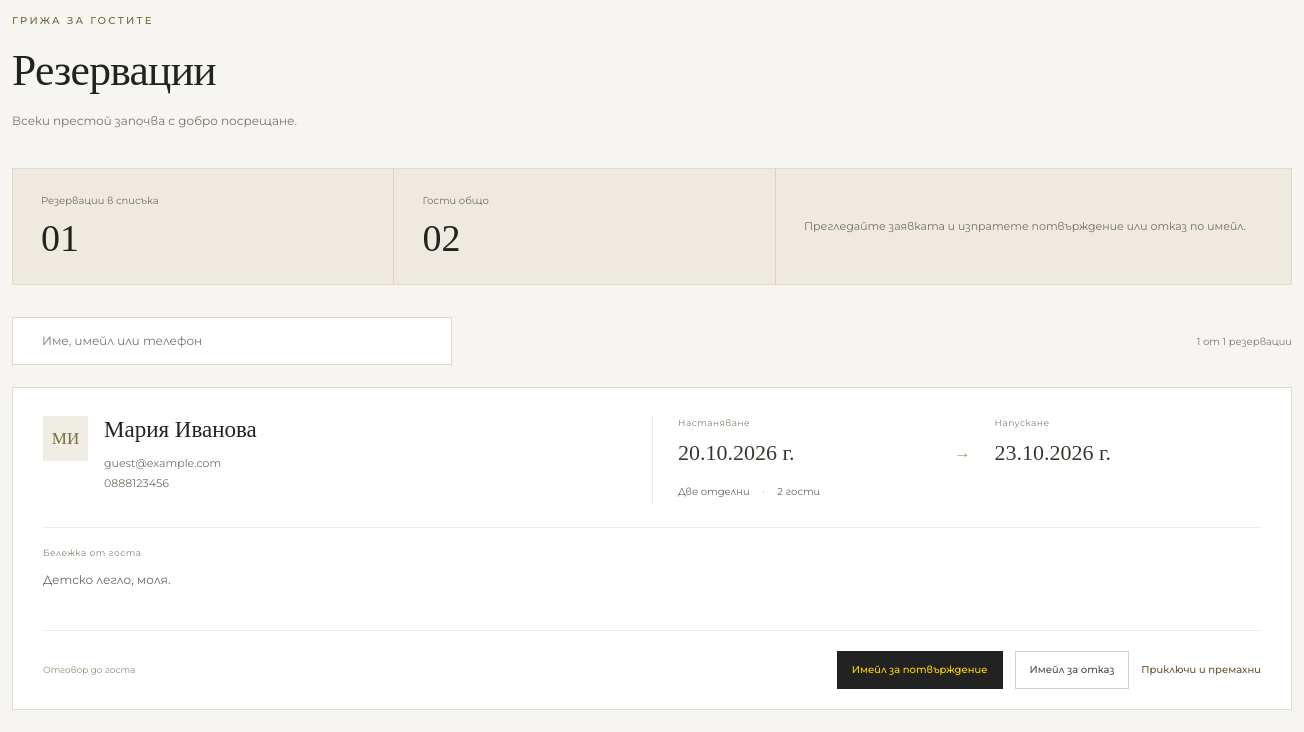
Test: searches reservations without sending email or modifying records
This screenshot has width=1304, height=732.
expect the heading "Мария Иванова" is shown: met, box [104, 416, 257, 445]
In the search field: (238, 341) [42, 318, 434, 364], type "0888123456"
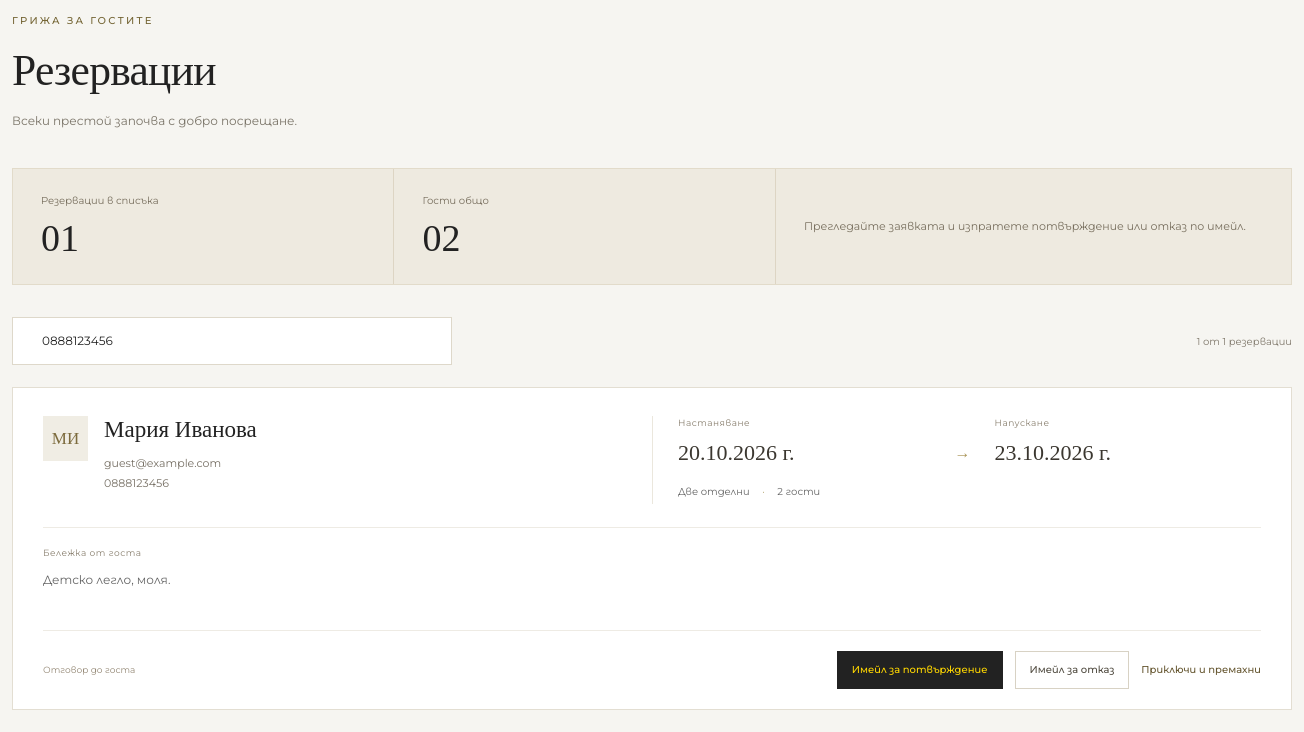
expect the heading "Мария Иванова" is shown: met, box [104, 416, 257, 445]
Replace the text in the search field with "няма такъв гост": (238, 341) [42, 318, 434, 364]
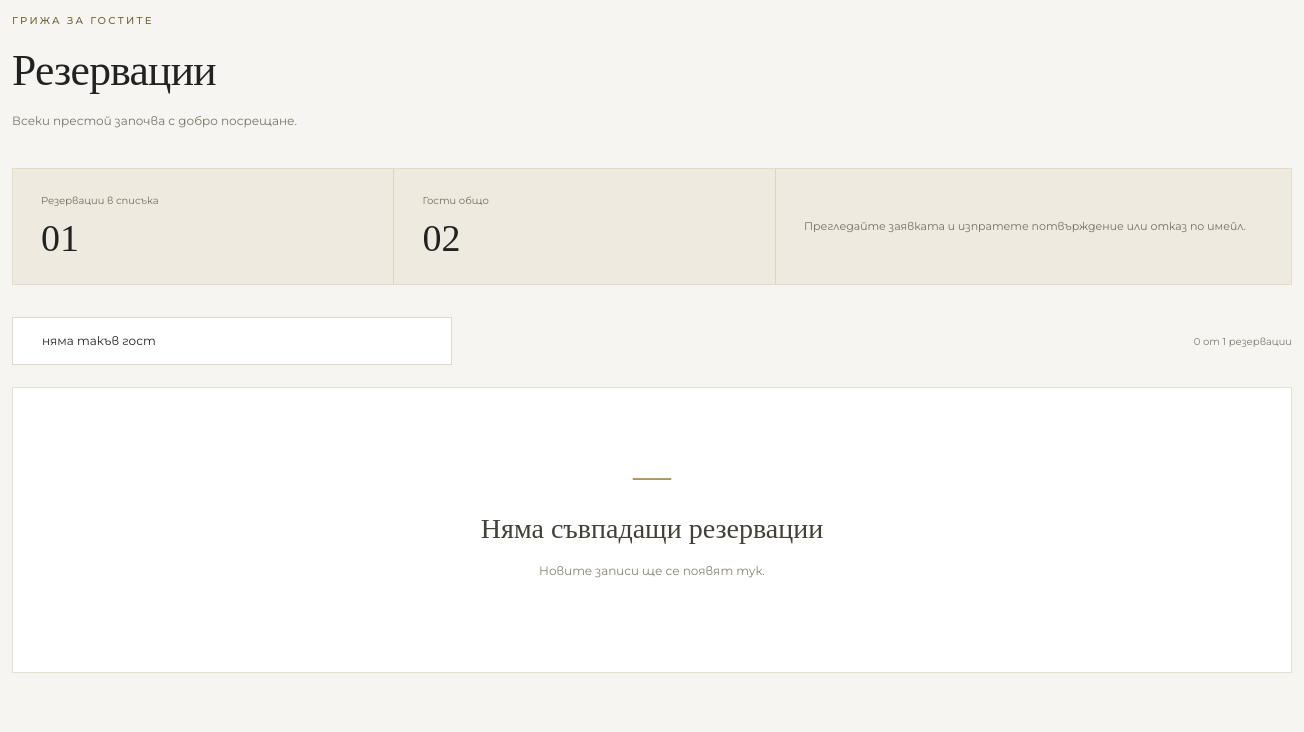
expect the heading "Мария Иванова" is gone: met
expect the heading "Няма съвпадащи резервации" is shown: met, box [481, 513, 823, 544]
